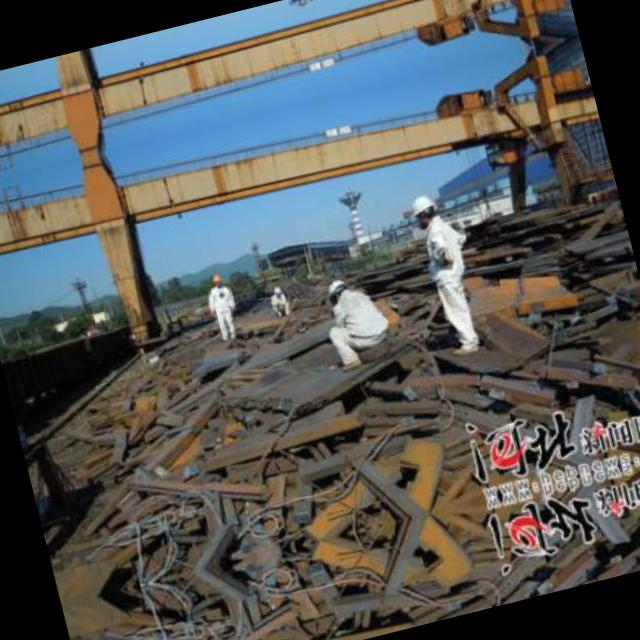helmet: (408, 190, 440, 230), (324, 273, 352, 305), (204, 269, 226, 293)
